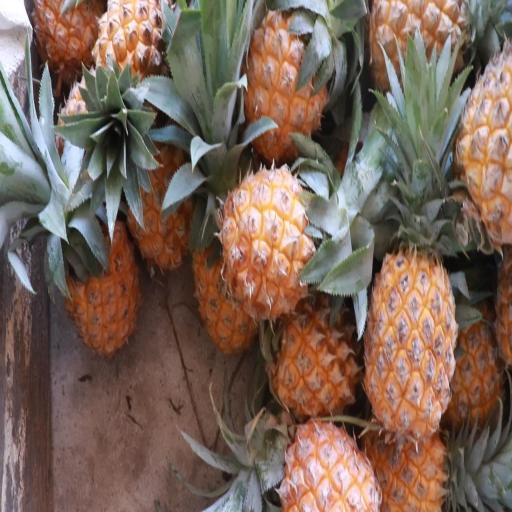Pineapple - v8 v1: (363, 211, 459, 442), (214, 156, 319, 326), (60, 182, 144, 368), (356, 360, 452, 512), (445, 38, 512, 255), (268, 284, 367, 428), (237, 6, 331, 157), (120, 103, 198, 279), (271, 409, 379, 512)
